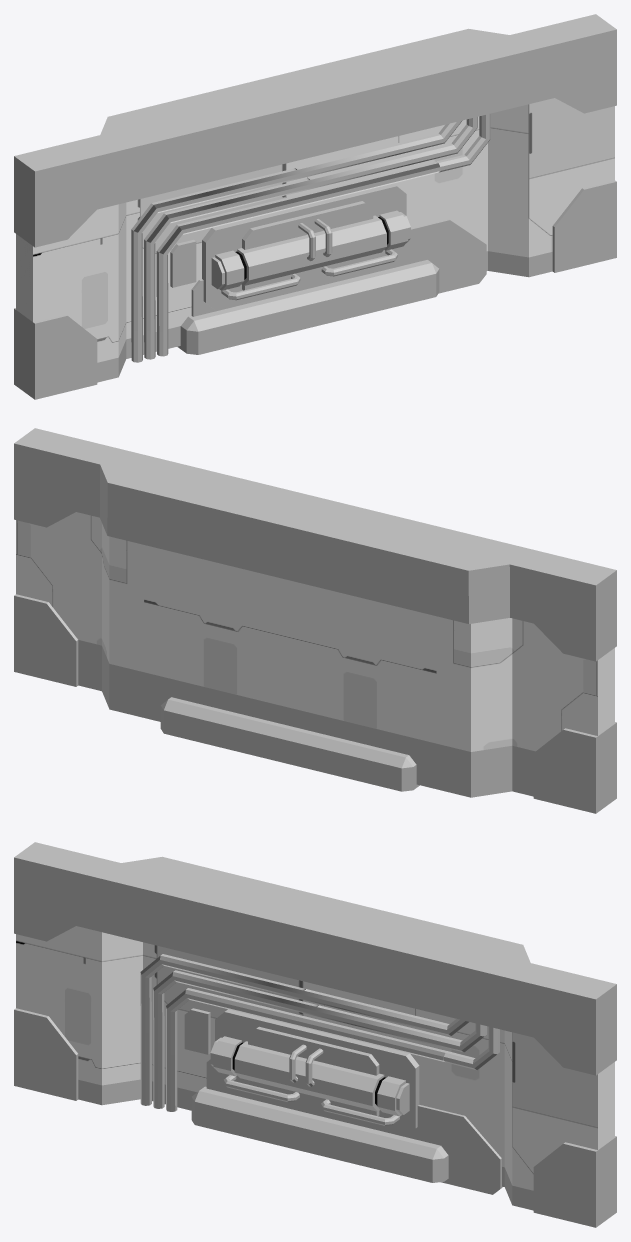
Rendered from SM_Wall_8x3_4.fbx.
The picture shows the model from 3 angles, top to bottom: view 1: azimuth 30°, elevation 25°; view 2: azimuth 150°, elevation 25°; view 3: azimuth 330°, elevation 25°; orthographic projection.
Parts seen in each view (by area): view 1: SM_Wall_8x3_4; view 2: SM_Wall_8x3_4; view 3: SM_Wall_8x3_4.
Boxes of the visible parts, box(x1,y1,x2,y2) form: SM_Wall_8x3_4: box(14, 14, 616, 399); SM_Wall_8x3_4: box(14, 428, 616, 813); SM_Wall_8x3_4: box(14, 842, 616, 1227).
Size of the model in its own units: 800 by 312 by 105.
